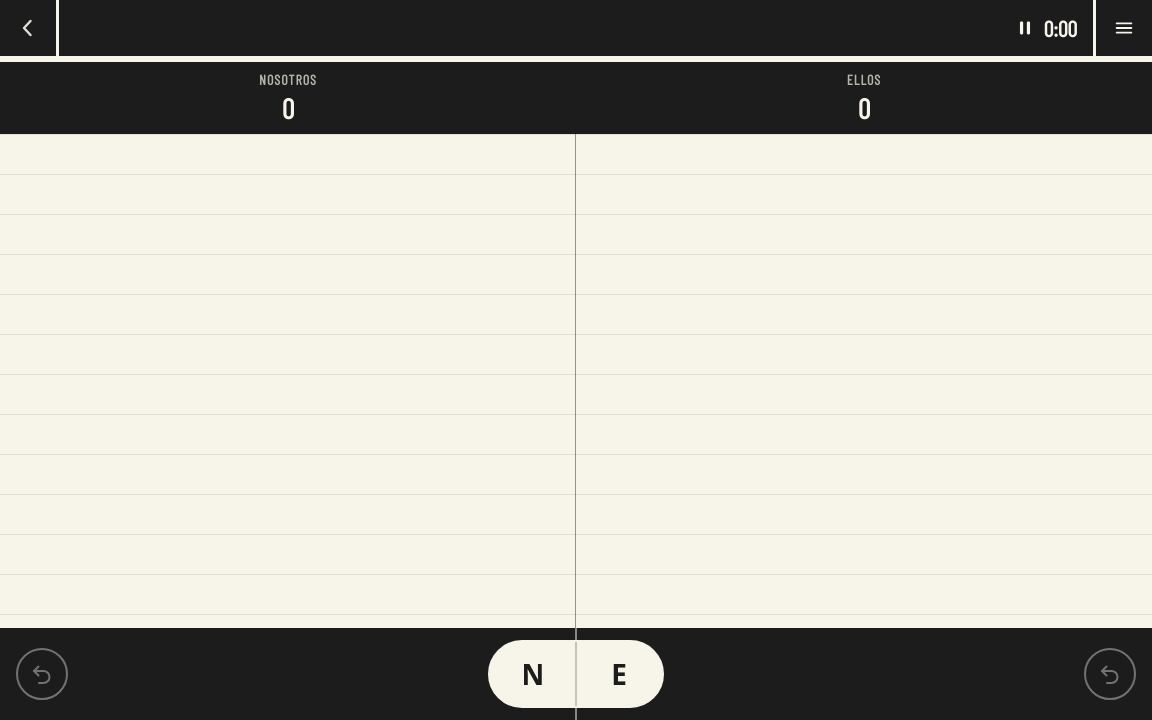
it: transmisión en vivo del contador › "Seguir jugando" cierra el cartel sin cancelar nada
The width and height of the screenshot is (1152, 720).
Press the mouse on the button "N" at (533, 674), box [490, 642, 576, 706]
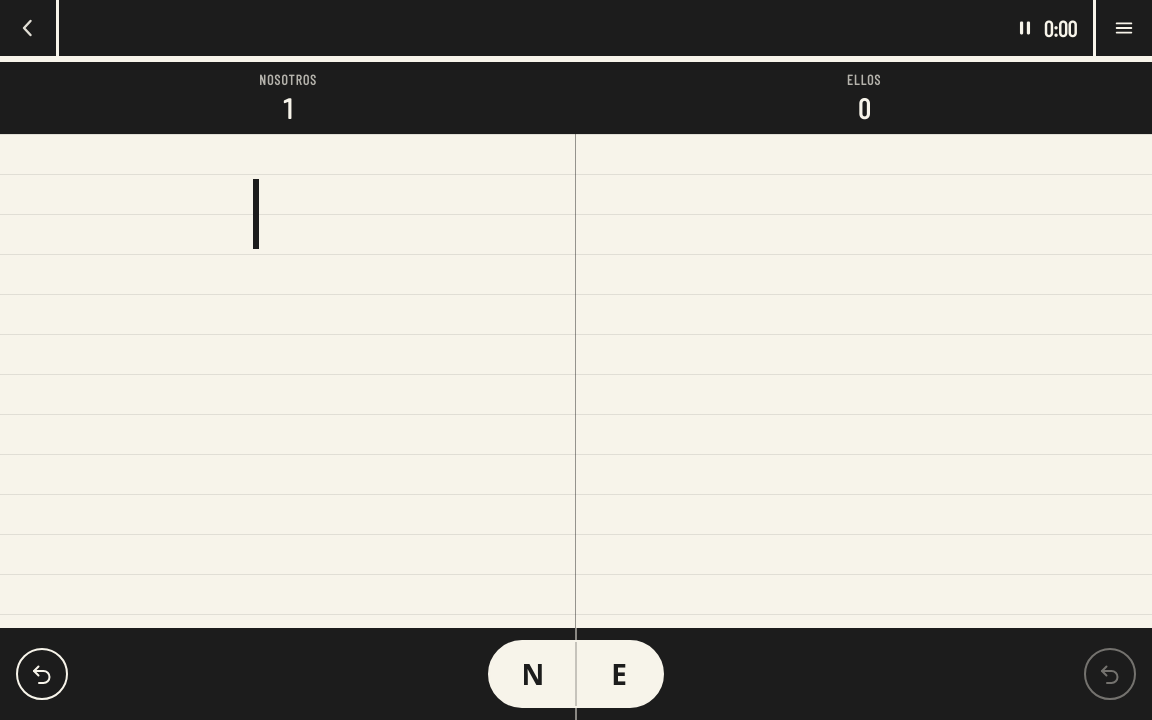
Click the button named "Menú" at (1124, 28), box [1096, 0, 1151, 56]
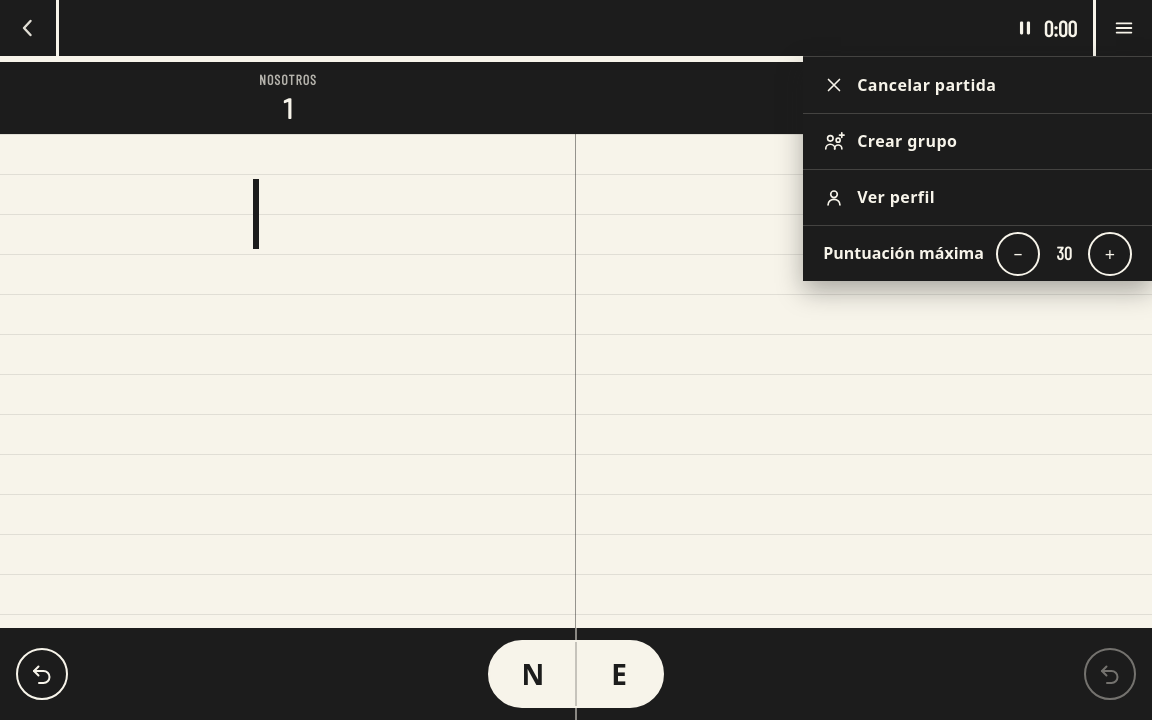
Click the button "Cancelar partida" at (978, 85), box [803, 57, 1151, 113]
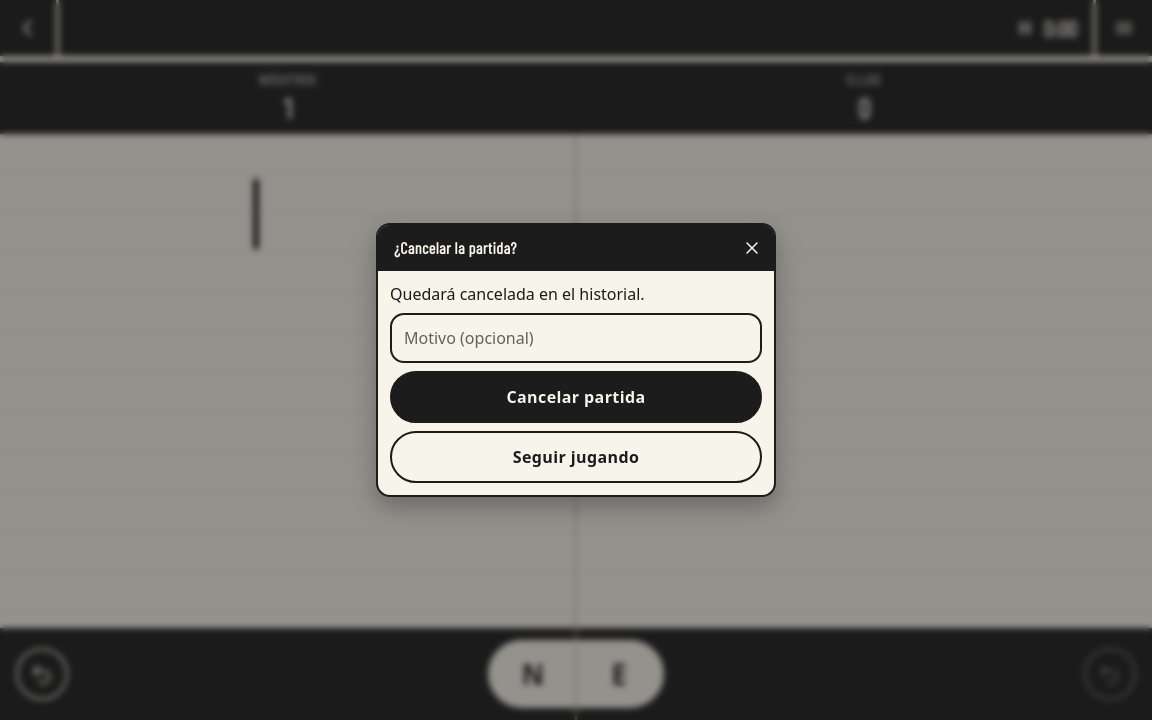
Click the button "Seguir jugando" at (576, 457), box [390, 431, 762, 483]
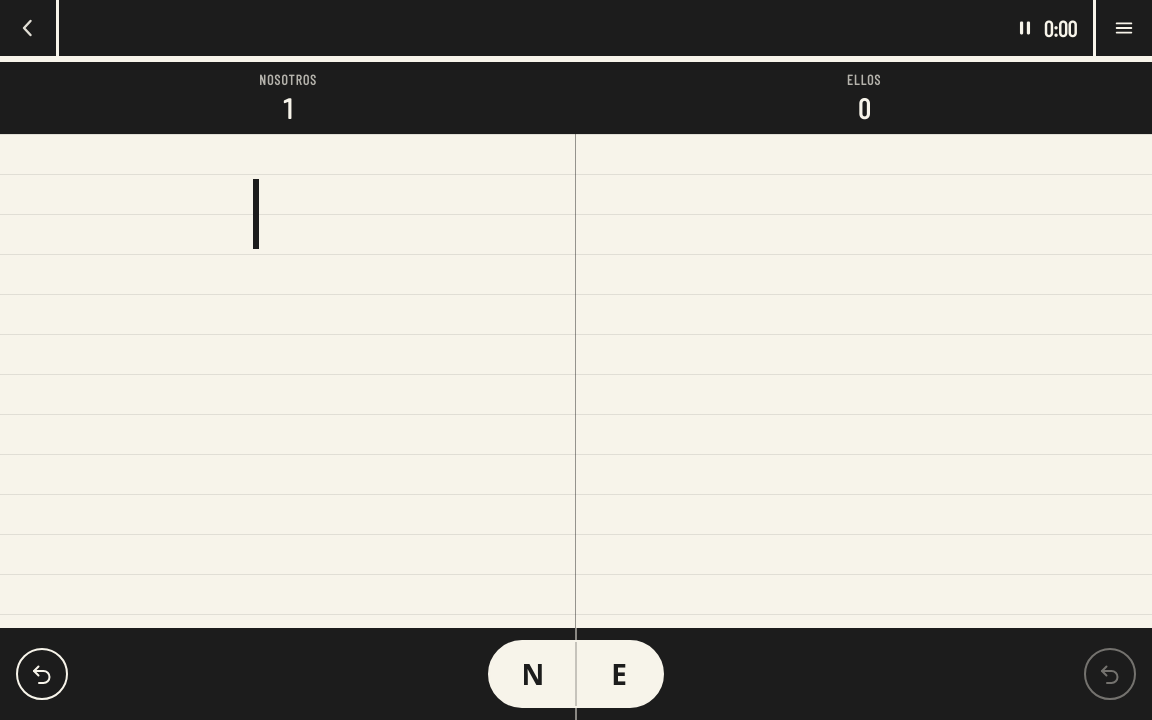
Expected: the text with test id "score-nos" reads "1", [282, 91, 294, 125]
Expected: the heading "¿Cancelar la partida?" is gone
